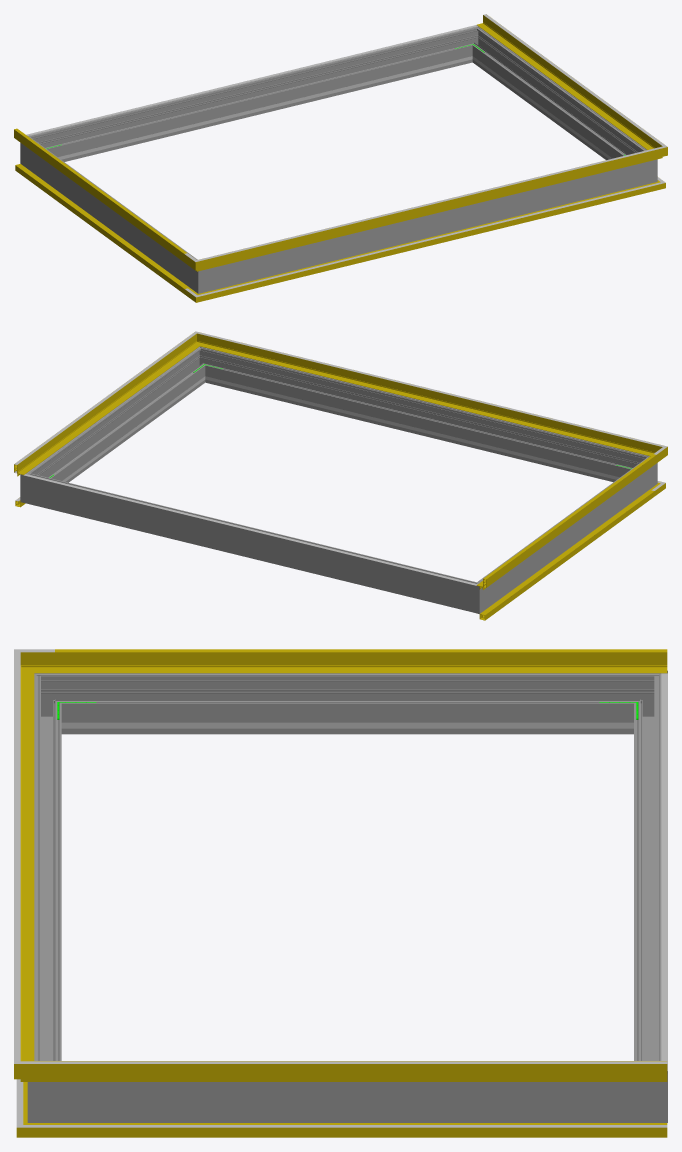
3 views of the same model, one above another, from view 1: azimuth 30°, elevation 25°; view 2: azimuth 150°, elevation 25°; view 3: azimuth 270°, elevation 25° (orthographic). The views are drawn at different scales.
Visible parts, largest first — view 1: 3DGeom-276, 3DGeom-298, 3DGeom-297, 3DGeom-56, 3DGeom-268, 3DGeom-11, 3DGeom-58, 3DGeom-50, 3DGeom-244, 3DGeom-6, 3DGeom-220, 3DGeom-66 (+8 smaller); view 2: 3DGeom-298, 3DGeom-276, 3DGeom-297, 3DGeom-56, 3DGeom-268, 3DGeom-58, 3DGeom-50, 3DGeom-6, 3DGeom-239, 3DGeom-220, 3DGeom-66, 3DGeom-278 (+6 smaller); view 3: 3DGeom-268, 3DGeom-297, 3DGeom-50, 3DGeom-58, 3DGeom-276, 3DGeom-298, 3DGeom-16, 3DGeom-56, 3DGeom-232, 3DGeom-220, 3DGeom-66, 3DGeom-71 (+8 smaller).
Part boxes in pixels (x1,y1,x2,y2): 3DGeom-276: (42,30,469,161); 3DGeom-298: (218,164,637,288); 3DGeom-297: (474,33,642,159); 3DGeom-56: (213,152,648,267); 3DGeom-268: (31,143,192,285); 3DGeom-11: (213,185,646,297); 3DGeom-58: (477,15,653,149); 3DGeom-50: (14,129,184,261); 3DGeom-244: (65,60,453,158); 3DGeom-6: (15,164,189,294); 3DGeom-220: (26,25,477,135); 3DGeom-66: (214,150,647,257); 3DGeom-298: (208,350,635,482); 3DGeom-276: (40,476,463,609); 3DGeom-297: (35,353,203,482); 3DGeom-56: (209,337,646,454); 3DGeom-268: (484,463,646,605); 3DGeom-58: (14,340,193,476); 3DGeom-50: (476,455,656,589); 3DGeom-6: (479,490,654,620); 3DGeom-239: (224,381,612,478); 3DGeom-220: (24,474,477,585); 3DGeom-66: (214,336,647,442); 3DGeom-278: (460,577,490,613); 3DGeom-268: (68,673,626,734); 3DGeom-297: (68,1082,626,1122); 3DGeom-50: (55,652,667,673); 3DGeom-58: (55,1061,667,1081); 3DGeom-276: (634,688,661,1060); 3DGeom-298: (34,688,61,1060); 3DGeom-16: (57,1123,667,1137); 3DGeom-56: (20,680,34,1060); 3DGeom-232: (101,722,594,728); 3DGeom-220: (661,673,667,1071); 3DGeom-66: (14,666,20,1046); 3DGeom-71: (55,649,667,652).
Size of the model in its own units: 3.66 by 0.307 by 2.44.
